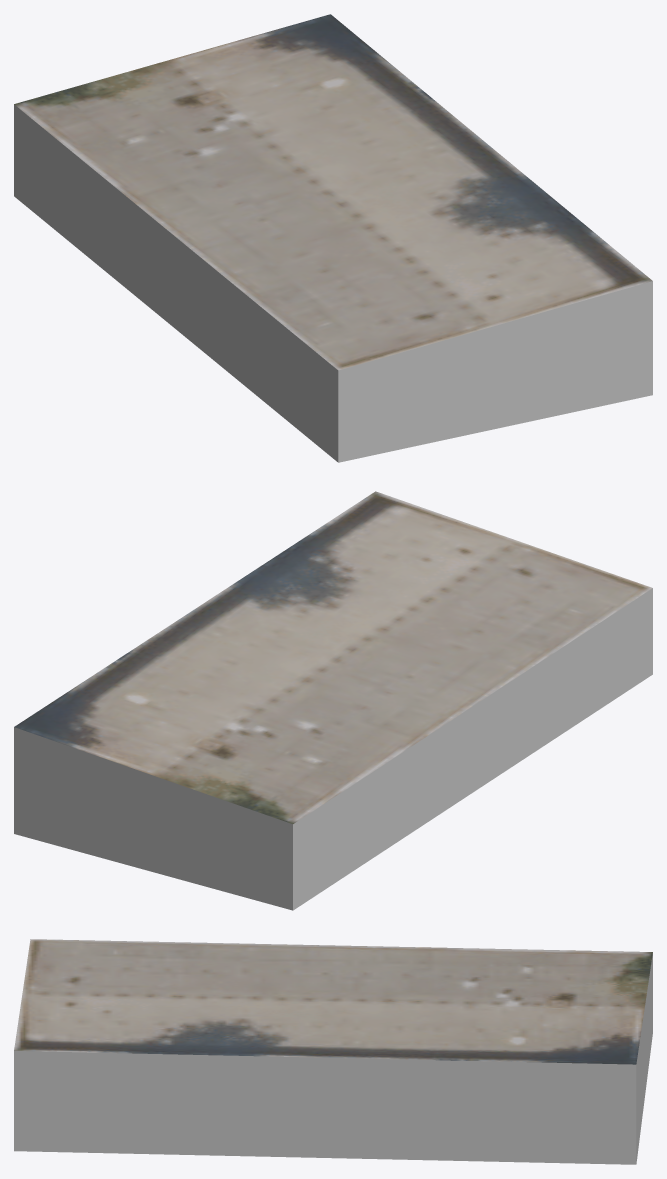
File: DEBW_0010007Tx5W.gltf
The picture shows the model from 3 angles, top to bottom: view 1: azimuth 30°, elevation 25°; view 2: azimuth 150°, elevation 25°; view 3: azimuth 270°, elevation 25°; orthographic projection. The views are drawn at different scales.
Visible parts, largest first — view 1: Z_UP; view 2: Z_UP; view 3: Z_UP.
Part boxes in pixels (x1,y1,x2,y2): Z_UP: (14, 14, 652, 462); Z_UP: (14, 491, 652, 910); Z_UP: (14, 939, 652, 1164).
Size of the model in its own units: 22.27 by 7.21 by 41.6.
Materials: 2 (1 with a texture image).
